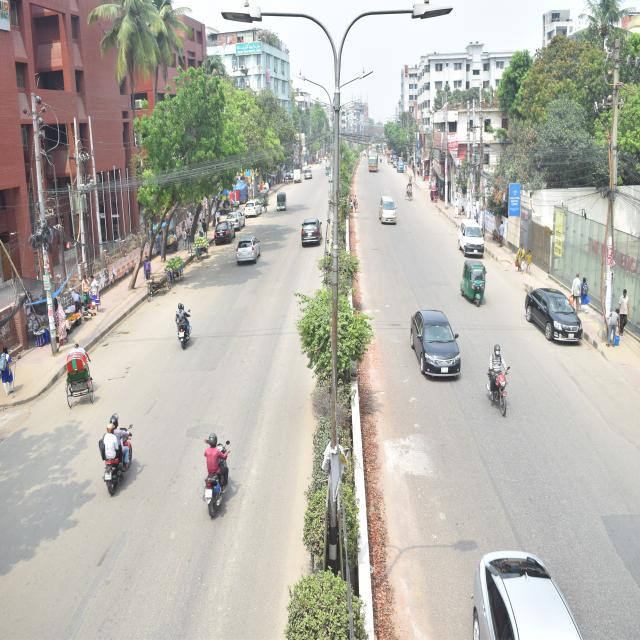car: (468, 543, 585, 640), (410, 302, 462, 384), (523, 284, 587, 346), (484, 362, 514, 419), (232, 232, 264, 266), (376, 192, 402, 231), (300, 217, 324, 254), (212, 216, 236, 248), (240, 197, 265, 219), (226, 209, 248, 227)
microbus: (456, 216, 488, 262)
motorbike: (102, 422, 136, 495), (203, 444, 233, 522), (172, 305, 196, 355)
